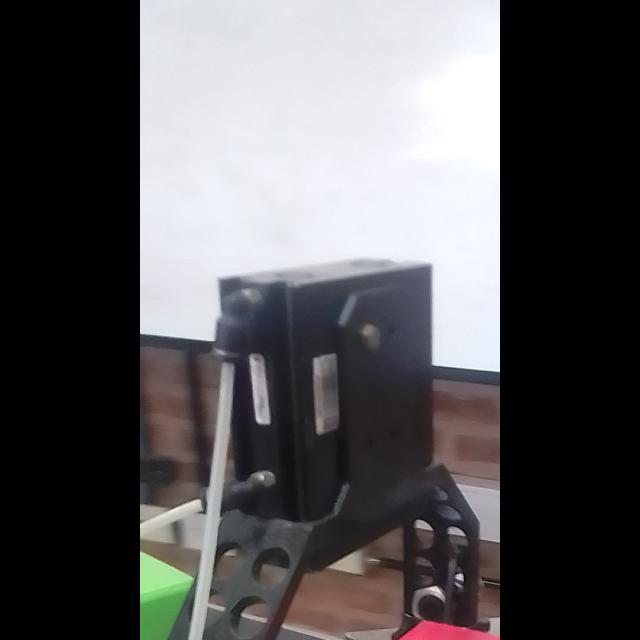redBox: (354, 598, 500, 640)
